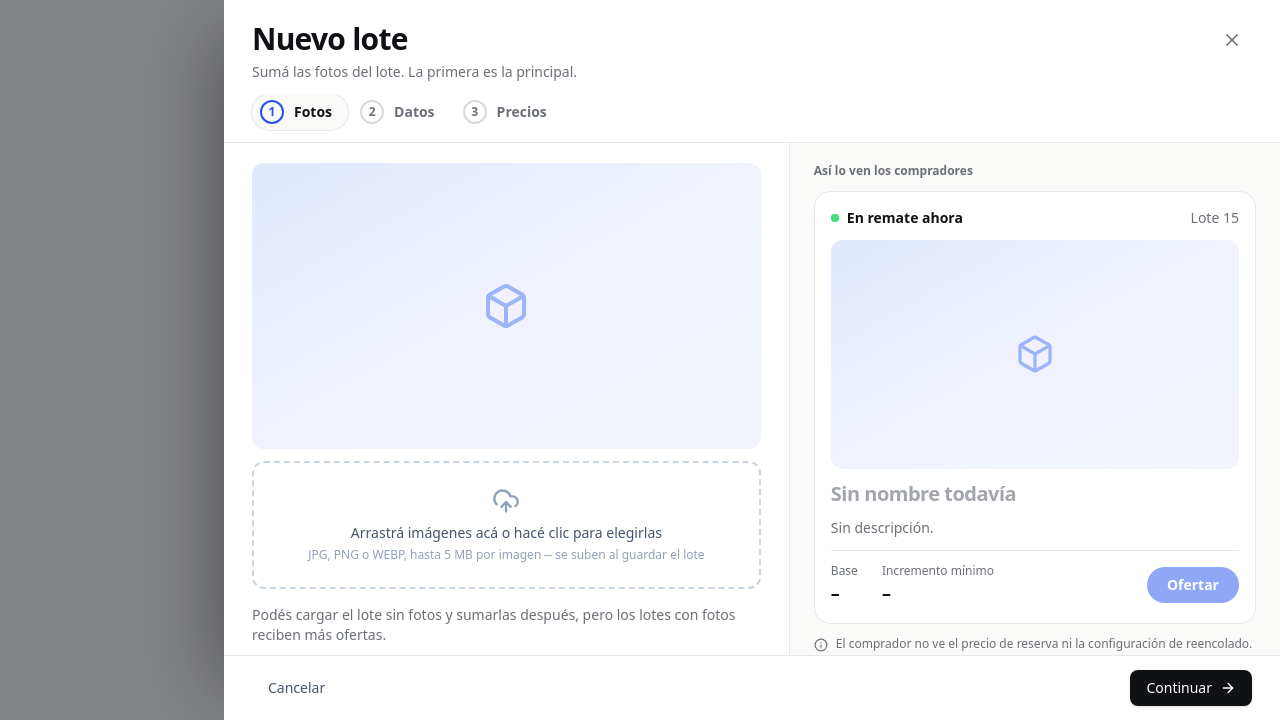
LoteDrawer › avisa si el número de lote ya existe, antes de enviar nada
The width and height of the screenshot is (1280, 720).
Click the button "Continuar": (1191, 688) [1130, 670, 1252, 706]
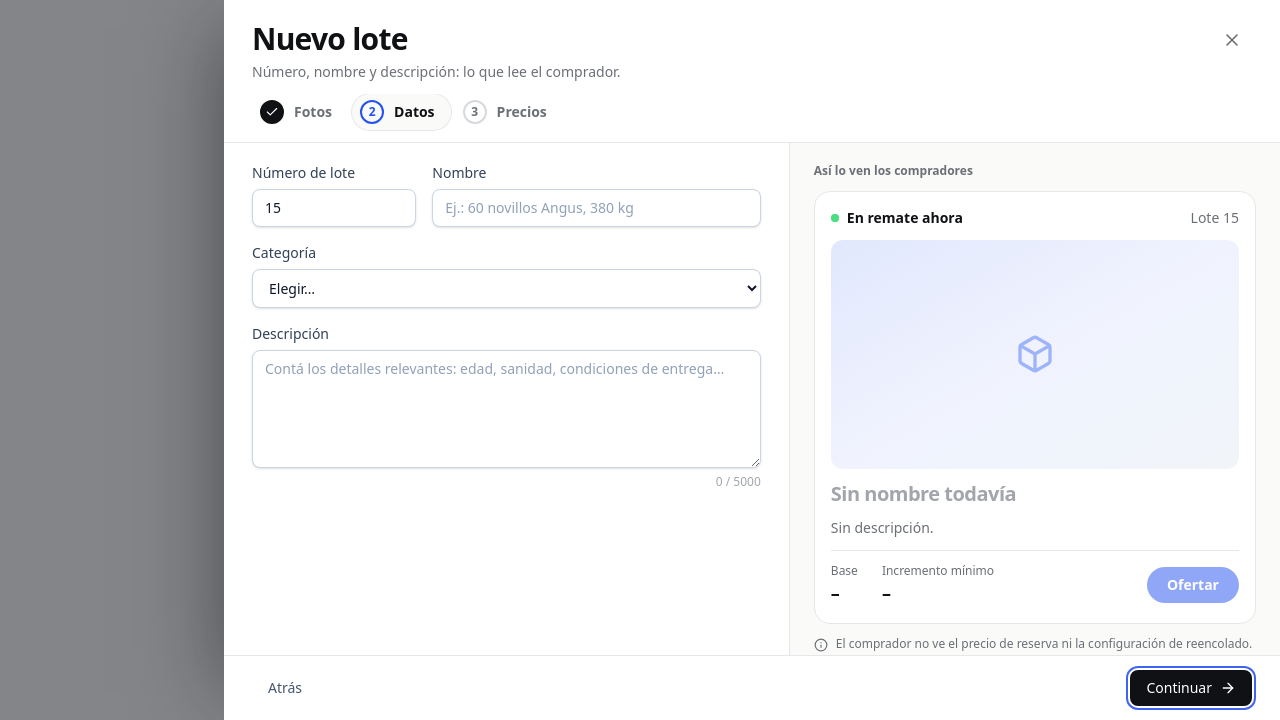
Replace the text in the field labelled "Número de lote" with "14": (334, 208) [252, 188, 416, 226]
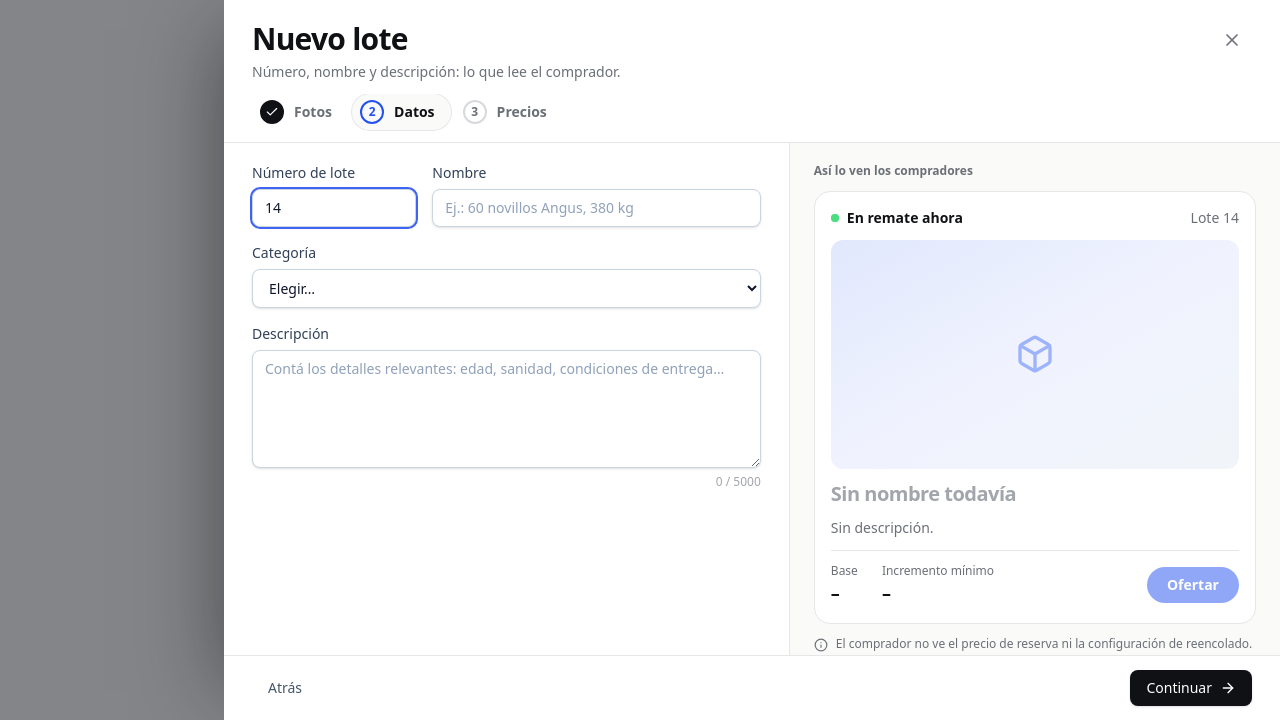
Click the button "Continuar": (1191, 688) [1130, 670, 1252, 706]
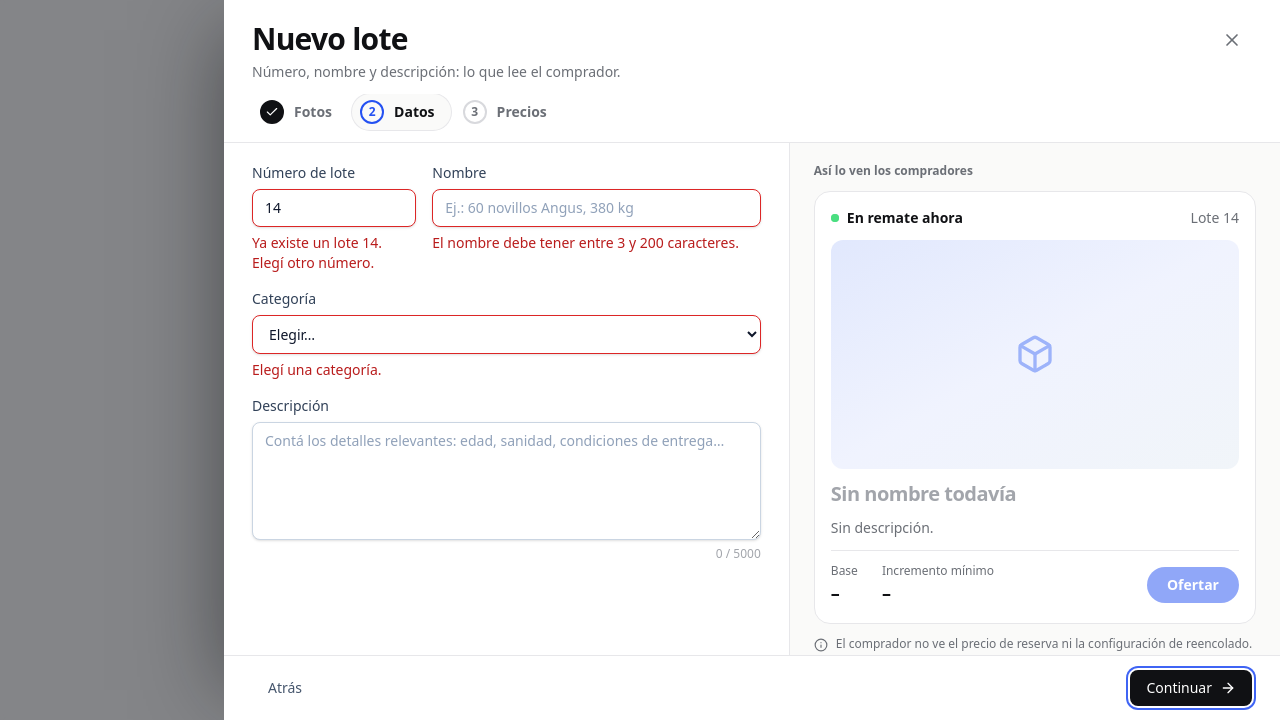
Check: the text "Ya existe un lote 14. Elegí otro número." is shown, box [252, 232, 382, 272]
